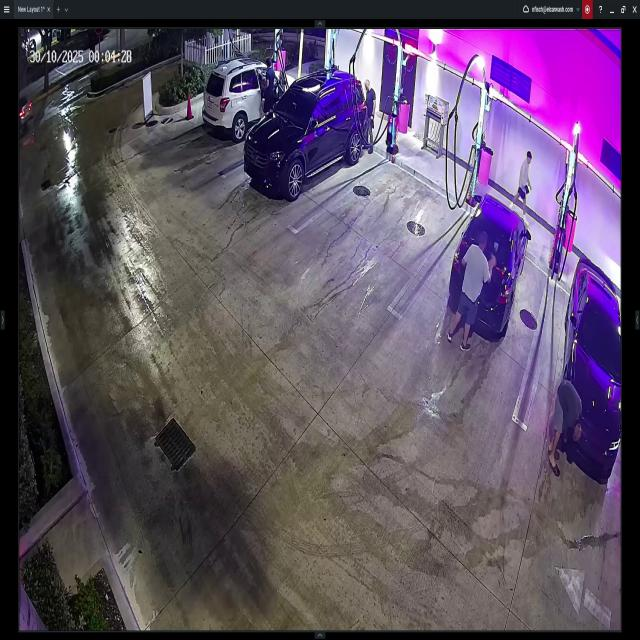Car: (246, 68, 366, 199), (561, 252, 622, 478), (452, 192, 530, 340), (203, 62, 294, 135), (19, 92, 34, 131)
